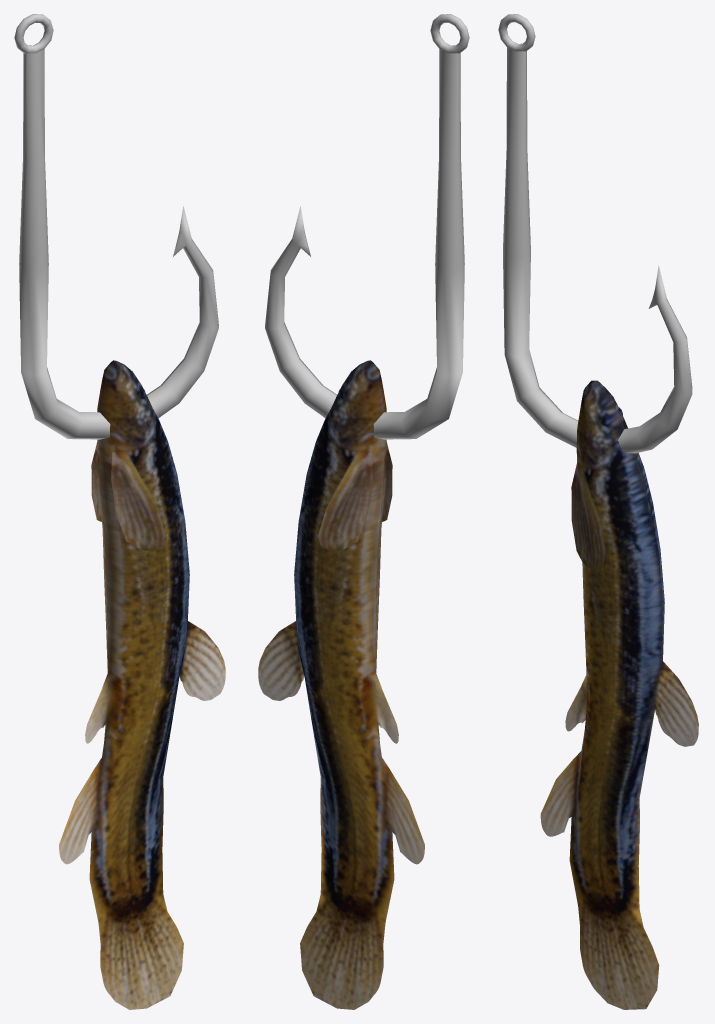
Rendered from Bait_MudFish.fbx.
3 renders of one model, left to right at view 1: azimuth 30°, elevation 25°; view 2: azimuth 150°, elevation 25°; view 3: azimuth 330°, elevation 25°, orthographic. The views are drawn at different scales.
Visible parts, largest first — view 1: Bait_WeatherFish; view 2: Bait_WeatherFish; view 3: Bait_WeatherFish.
Boxes of the visible parts, x1,y1,x2,y2 form: Bait_WeatherFish: (14,14,225,1009); Bait_WeatherFish: (258,14,469,1009); Bait_WeatherFish: (498,14,698,1009).
Bounding box in the file's own units: 0.2206 × 1.01 × 0.0873.
